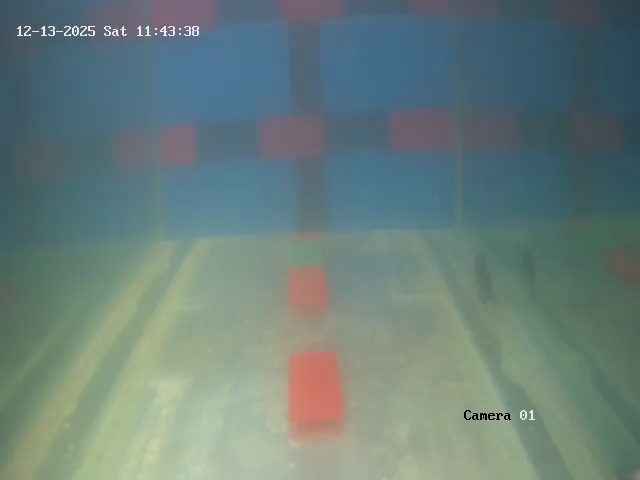fish: (471, 250, 500, 297)
